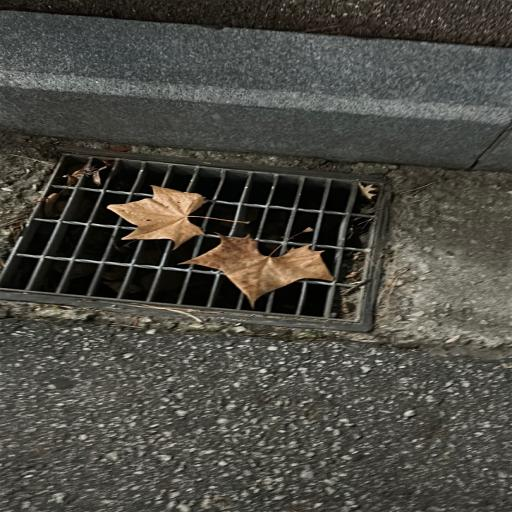debris: (184, 234, 336, 303), (109, 185, 205, 247), (361, 180, 390, 208), (71, 149, 133, 161), (67, 165, 99, 185), (346, 257, 361, 283), (41, 193, 57, 204), (341, 286, 348, 310)
drain: (4, 149, 392, 319)
